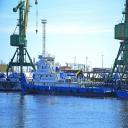tugboat: (23, 52, 117, 98)
